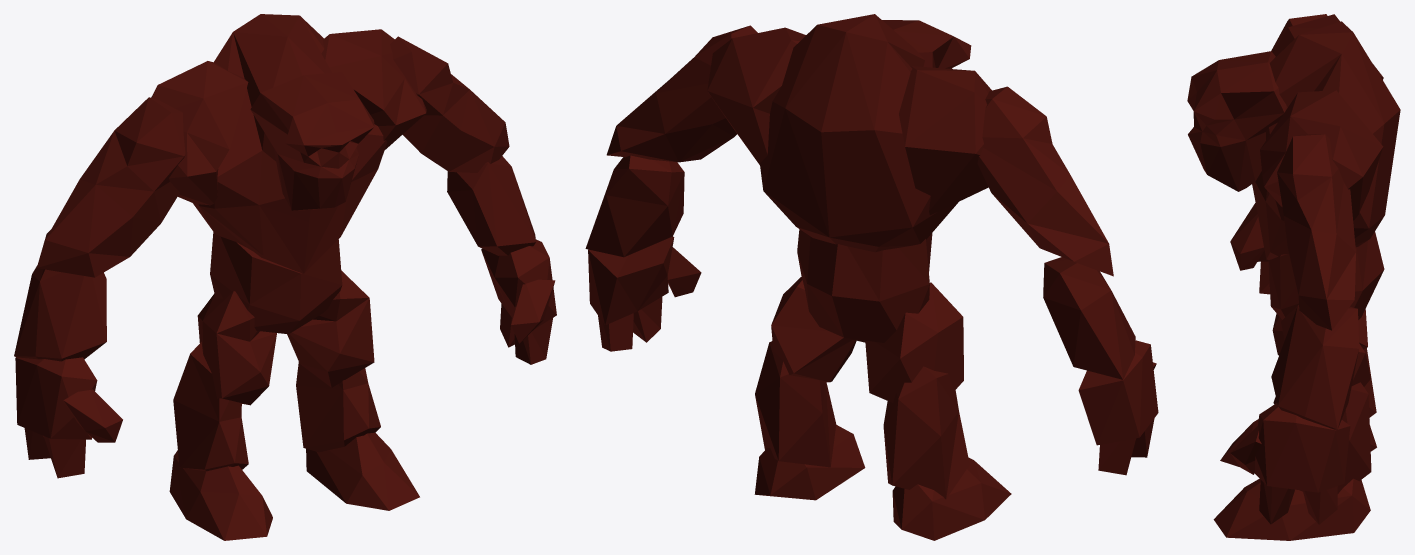
The model's file is GOL_FIRE_BODY.OBJ.
3 renders of one model, left to right at view 1: azimuth 30°, elevation 25°; view 2: azimuth 150°, elevation 25°; view 3: azimuth 270°, elevation 25°, orthographic. The views are drawn at different scales.
Visible parts, largest first — view 1: GOL_FIRE_BODY; view 2: GOL_FIRE_BODY; view 3: GOL_FIRE_BODY.
Boxes of the visible parts, box(x1,y1,x2,y2) form: GOL_FIRE_BODY: box(14, 14, 556, 540); GOL_FIRE_BODY: box(585, 14, 1158, 540); GOL_FIRE_BODY: box(1187, 14, 1400, 540).
Bounding box in the file's own units: 2.6 × 2.19 × 0.9236.
